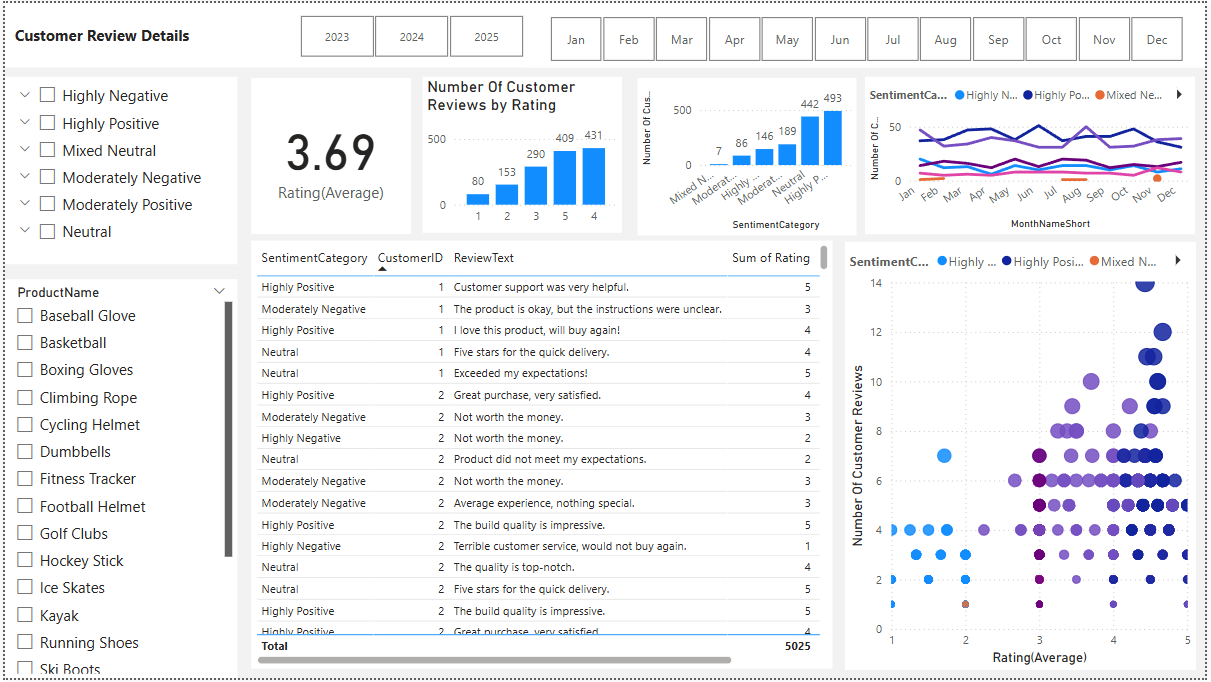

The dashboard page shown, as its layout file describes it:
{"tool":"powerbi","page":{"name":"Customer Review Details","canvas":[1280,720],"ordinal":3},"visuals":[{"type":"textbox","box":[0,0,1280.3,68.6],"z":0},{"type":"slicer","fields":{"Values":["dim_products.ProductName"]},"box":[0,294,247.6,426.2],"z":1000},{"type":"card","fields":{"Values":["_Calculations.Rating(Average)"]},"box":[263.1,79.8,170.2,166.7],"z":2000},{"type":"slicer","fields":{"Values":["Calender.Year"]},"box":[289.8,6.2,287.4,57.2],"z":3000},{"type":"slicer","fields":{"Values":["Calender.MonthNameShort"]},"box":[556,7.5,724,61],"z":4000},{"type":"clusteredColumnChart","fields":{"Y":["_Calculations.Number Of Customer Reviews"],"Category":["factored_customer_reviews.SentimentCategory"]},"box":[675,79.8,233.3,167.9],"z":5000},{"type":"clusteredColumnChart","fields":{"Y":["_Calculations.Number Of Customer Reviews"],"Category":["factored_customer_reviews.Rating"]},"box":[445.2,78.6,213.1,166.7],"z":6000},{"type":"lineChart","fields":{"Category":["Calender.MonthNameShort"],"Y":["_Calculations.Number Of Customer Reviews"],"Series":["factored_customer_reviews.SentimentCategory"]},"box":[917.9,78.6,352.4,167.9],"z":7000},{"type":"tableEx","fields":{"Values":["factored_customer_reviews.SentimentCategory","factored_customer_reviews.CustomerID","factored_customer_reviews.ReviewText","Sum(factored_customer_reviews.Rating)","factored_customer_reviews.ReviewDate"]},"box":[263.1,253.6,620.2,457.1],"z":8000},{"type":"scatterChart","fields":{"X":["_Calculations.Rating(Average)"],"Y":["_Calculations.Number Of Customer Reviews"],"Category":["dim_customers.CustomerID"],"Series":["factored_customer_reviews.SentimentCategory"],"Size":["_Calculations.Number Of Customer Reviews"]},"box":[895.9,254.1,374.3,456.8],"z":9000},{"type":"slicer","fields":{"Values":["factored_customer_reviews.SentimentCategory","dim_products.ProductName"]},"box":[0,78.6,247.6,200],"z":9001}]}

Visuals, with their boxes in screenshot pixels (x1, y1, x2, y2), scaled from the page's 1280x720 canvas onto the 1211x682 screenshot:
textbox: [0, 0, 1210, 65]
slicer - dim_products.ProductName: [0, 278, 234, 681]
card - _Calculations.Rating(Average): [249, 76, 410, 233]
slicer - Calender.Year: [274, 6, 546, 60]
slicer - Calender.MonthNameShort: [526, 7, 1210, 65]
clusteredColumnChart - _Calculations.Number Of Customer Reviews x factored_customer_reviews.SentimentCategory: [639, 76, 859, 235]
clusteredColumnChart - _Calculations.Number Of Customer Reviews x factored_customer_reviews.Rating: [421, 74, 623, 232]
lineChart - Calender.MonthNameShort x _Calculations.Number Of Customer Reviews: [868, 74, 1202, 233]
tableEx - factored_customer_reviews.SentimentCategory x factored_customer_reviews.CustomerID: [249, 240, 836, 673]
scatterChart - _Calculations.Rating(Average) x _Calculations.Number Of Customer Reviews: [848, 241, 1202, 673]
slicer - factored_customer_reviews.SentimentCategory x dim_products.ProductName: [0, 74, 234, 264]
